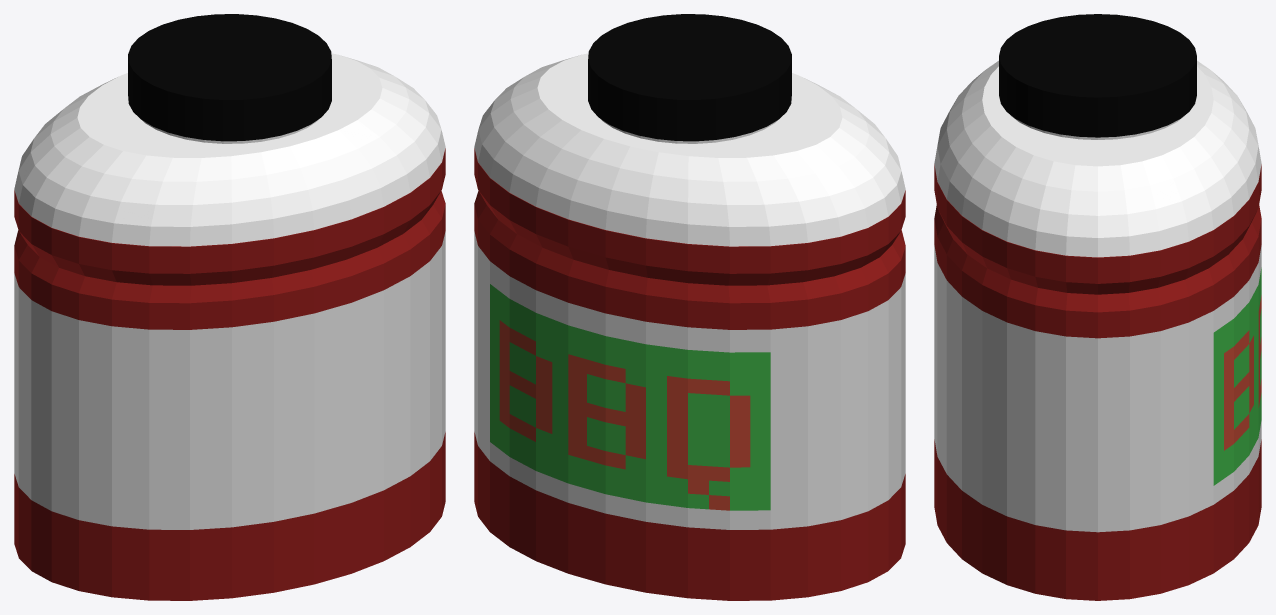
The model's file is BBQ.fbx.
3 views of the same model, side by side, from view 1: azimuth 30°, elevation 25°; view 2: azimuth 150°, elevation 25°; view 3: azimuth 270°, elevation 25° (orthographic). The views are drawn at different scales.
Parts seen in each view (by area): view 1: Cylinder, Sphere, Cylinder.002; view 2: Cylinder, Sphere, Cylinder.002; view 3: Cylinder, Sphere, Cylinder.002, Cylinder.001.
Part boxes in pixels (x1,y1,x2,y2): Cylinder: (14,148,445,600); Sphere: (14,53,445,246); Cylinder.002: (128,14,331,141); Cylinder: (474,148,905,600); Sphere: (474,53,905,246); Cylinder.002: (588,14,791,141); Cylinder: (934,164,1261,600); Sphere: (934,60,1261,257); Cylinder.002: (999,14,1196,137); Cylinder.001: (1010,115,1185,139).
Bounding box in the file's own units: 200 × 224 × 147.
